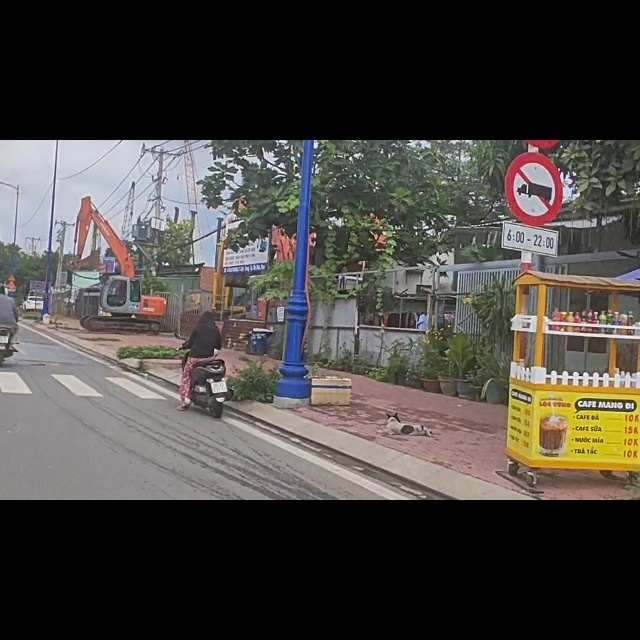bien_cam: (506, 20, 565, 154)
